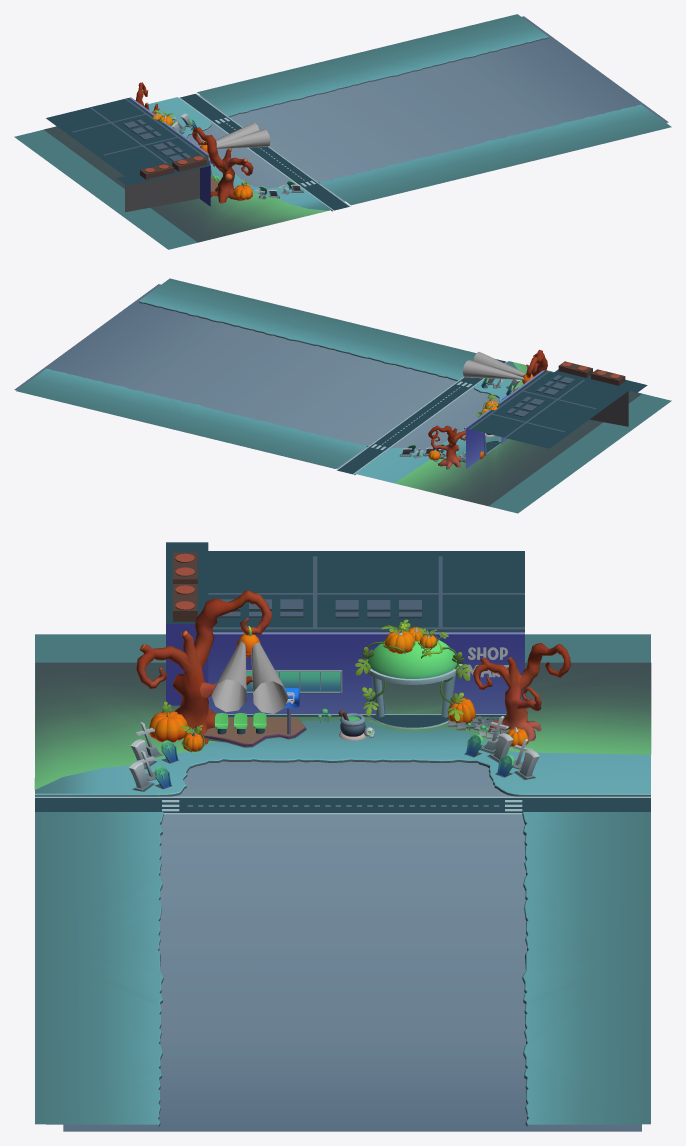
File: map_haloween.fbx
The picture shows the model from 3 angles, top to bottom: view 1: azimuth 30°, elevation 25°; view 2: azimuth 150°, elevation 25°; view 3: azimuth 270°, elevation 25°; orthographic projection. The views are drawn at different scales.
Parts seen in each view (by area): view 1: Floor, pavement, wall, road, LightShaft_L; view 2: Floor, pavement, wall, road, LightShaft_R, LightShaft_L; view 3: Floor, pavement, wall, road, LightShaft_R, LightShaft_L.
Boxes of the visible parts, x1=… form: Floor: x1=187, y1=16, x2=668, y2=201; pavement: x1=14, y1=14, x2=671, y2=249; wall: x1=43, y1=82, x2=328, y2=242; road: x1=179, y1=93, x2=350, y2=210; LightShaft_L: x1=216, y1=129, x2=270, y2=148; Floor: x1=14, y1=284, x2=499, y2=468; pavement: x1=16, y1=278, x2=671, y2=513; wall: x1=395, y1=349, x2=647, y2=506; road: x1=336, y1=359, x2=506, y2=474; LightShaft_R: x1=463, y1=360, x2=524, y2=379; LightShaft_L: x1=473, y1=351, x2=526, y2=376; Floor: x1=63, y1=761, x2=641, y2=1131; pavement: x1=35, y1=634, x2=650, y2=1126; wall: x1=34, y1=542, x2=651, y2=791; road: x1=35, y1=796, x2=650, y2=814; LightShaft_R: x1=251, y1=642, x2=288, y2=713; LightShaft_L: x1=211, y1=641, x2=246, y2=712.
Bounding box in the file's own units: 404 × 50.91 × 210.
